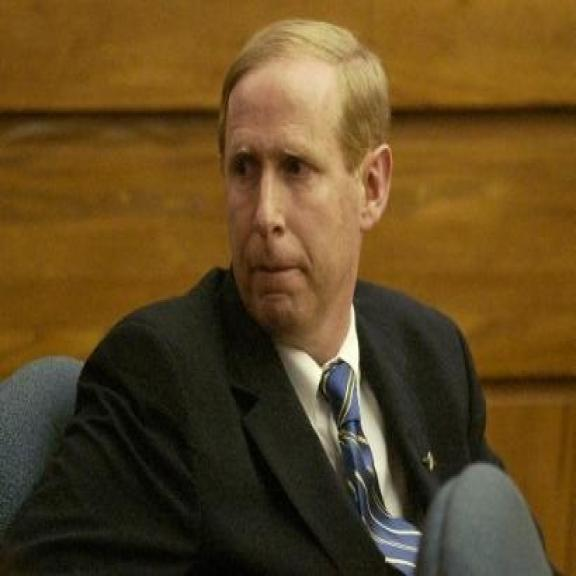face: (222, 56, 403, 335)
